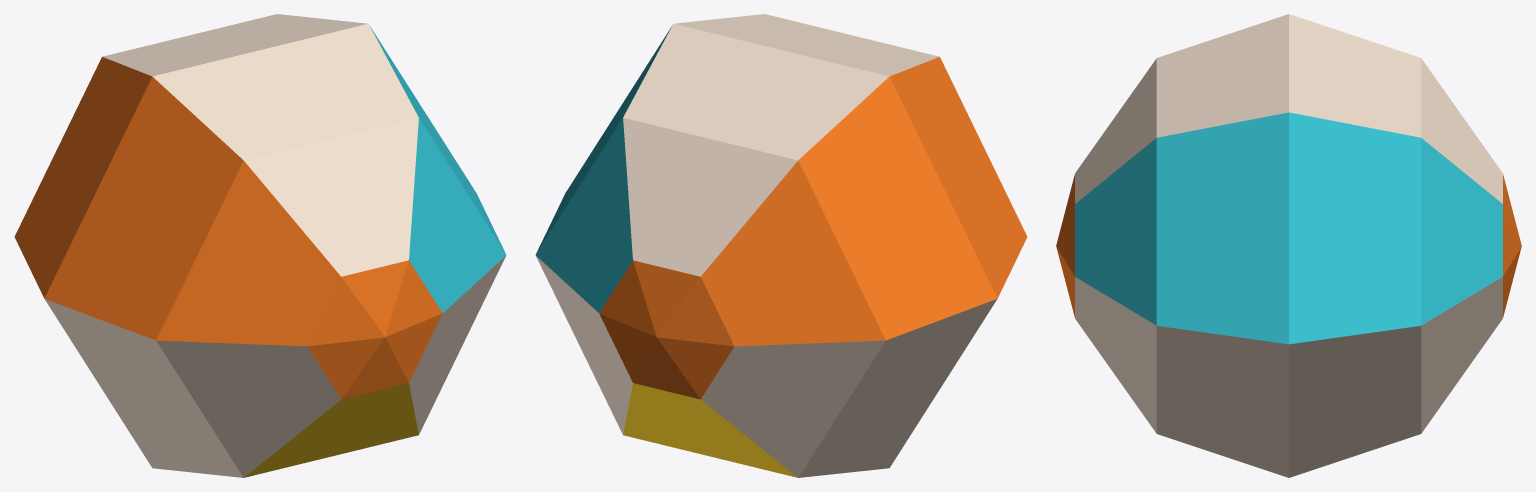
File: ball.glb
3 views of the same model, side by side, from view 1: azimuth 30°, elevation 25°; view 2: azimuth 150°, elevation 25°; view 3: azimuth 270°, elevation 25° (orthographic). The views are drawn at different scales.
Visible parts, largest first — view 1: ball-beach; view 2: ball-beach; view 3: ball-beach.
Part boxes in pixels (bbox=[...]): ball-beach: bbox=[14, 14, 506, 477]; ball-beach: bbox=[535, 14, 1027, 477]; ball-beach: bbox=[1056, 14, 1521, 477].
Bounding box in the file's own units: 0.5133 × 0.4445 × 0.5133.
Materials: 1 (1 with a texture image).
